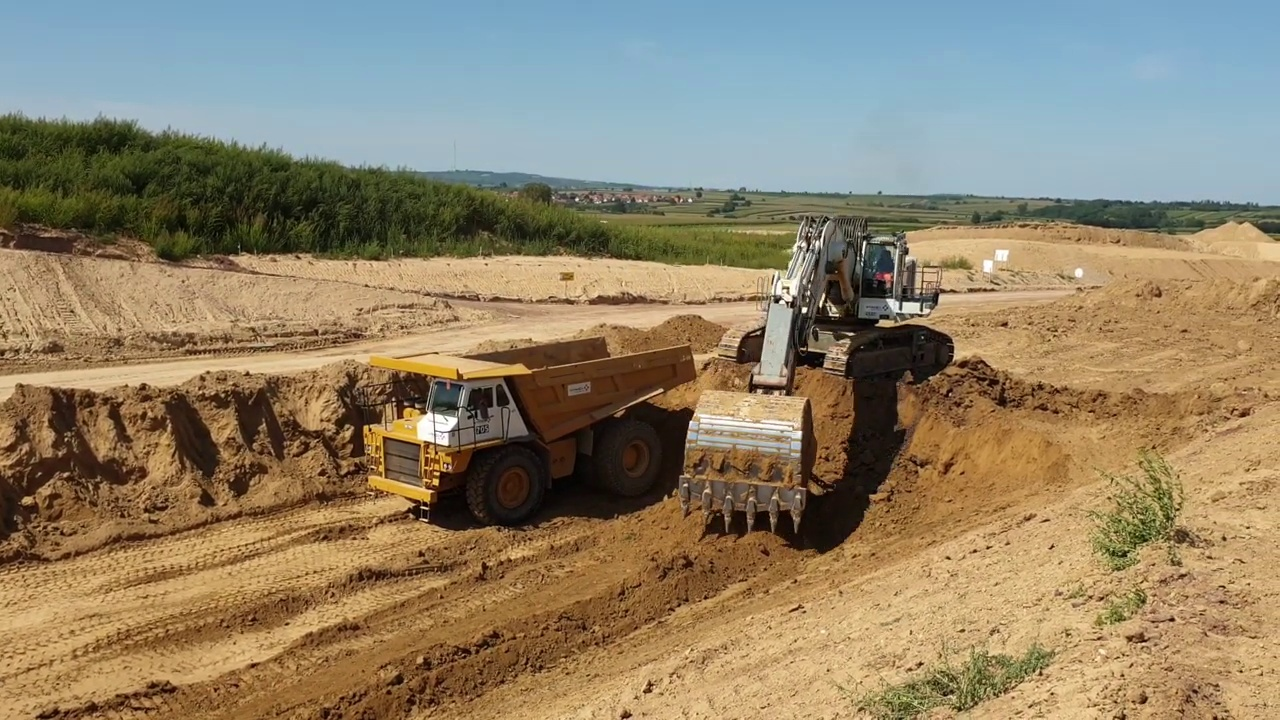excavator: (678, 213, 959, 538)
truck: (349, 331, 704, 531)
